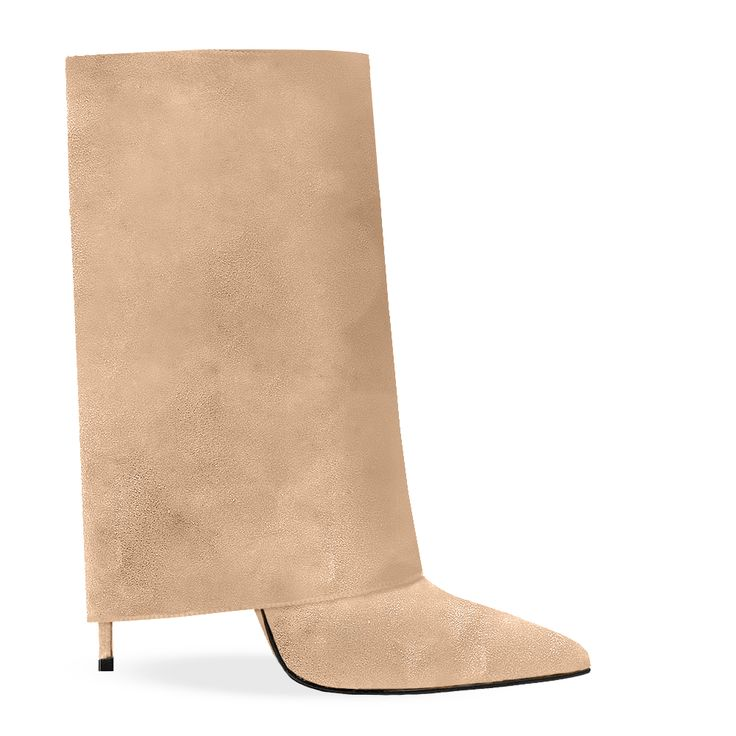gamuza: (66, 50, 591, 689)
